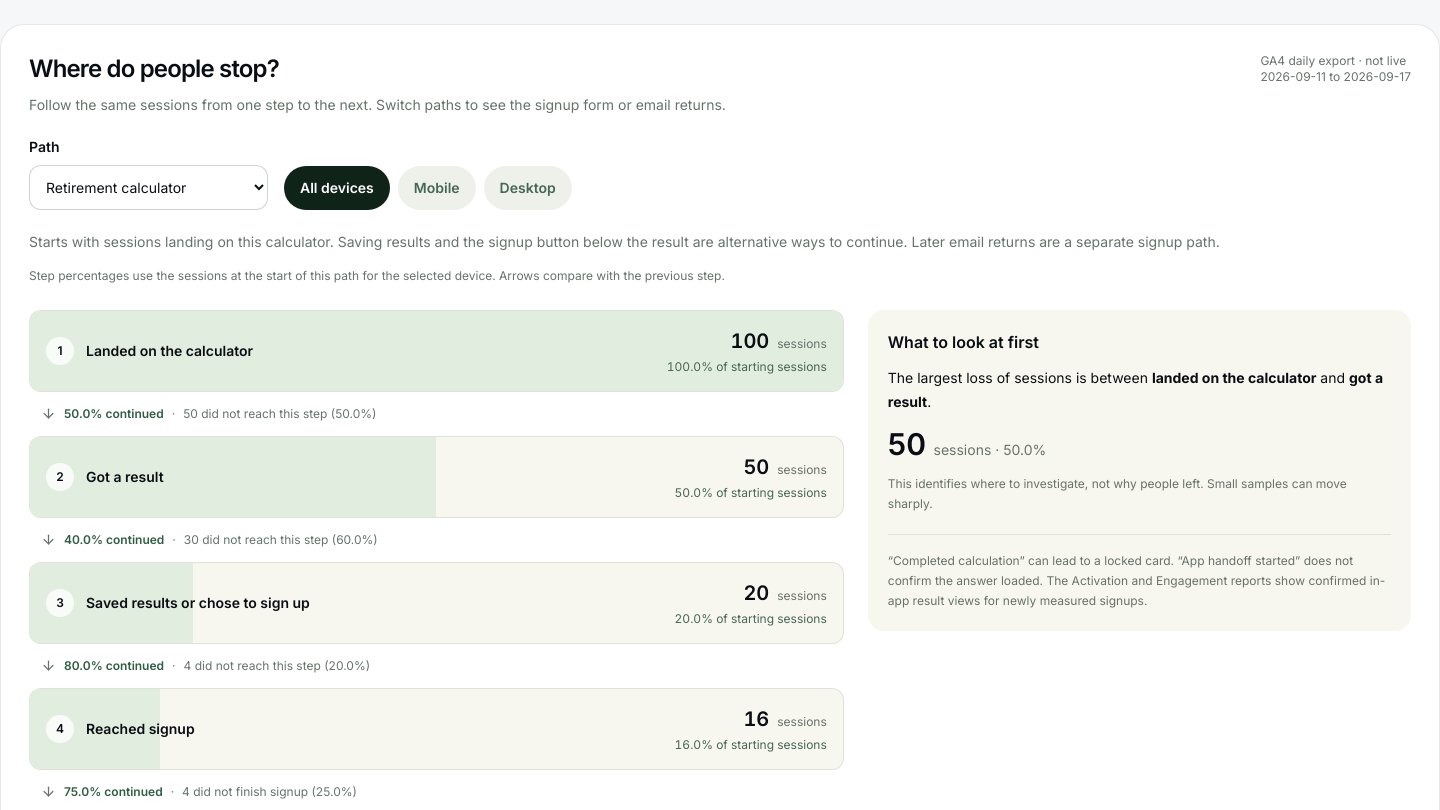
Scenario: simplified admin journeys › shows counts and shares of the selected retirement path on Mobile
Click the button "Mobile": (437, 188) x1=398 y1=166 x2=476 y2=210
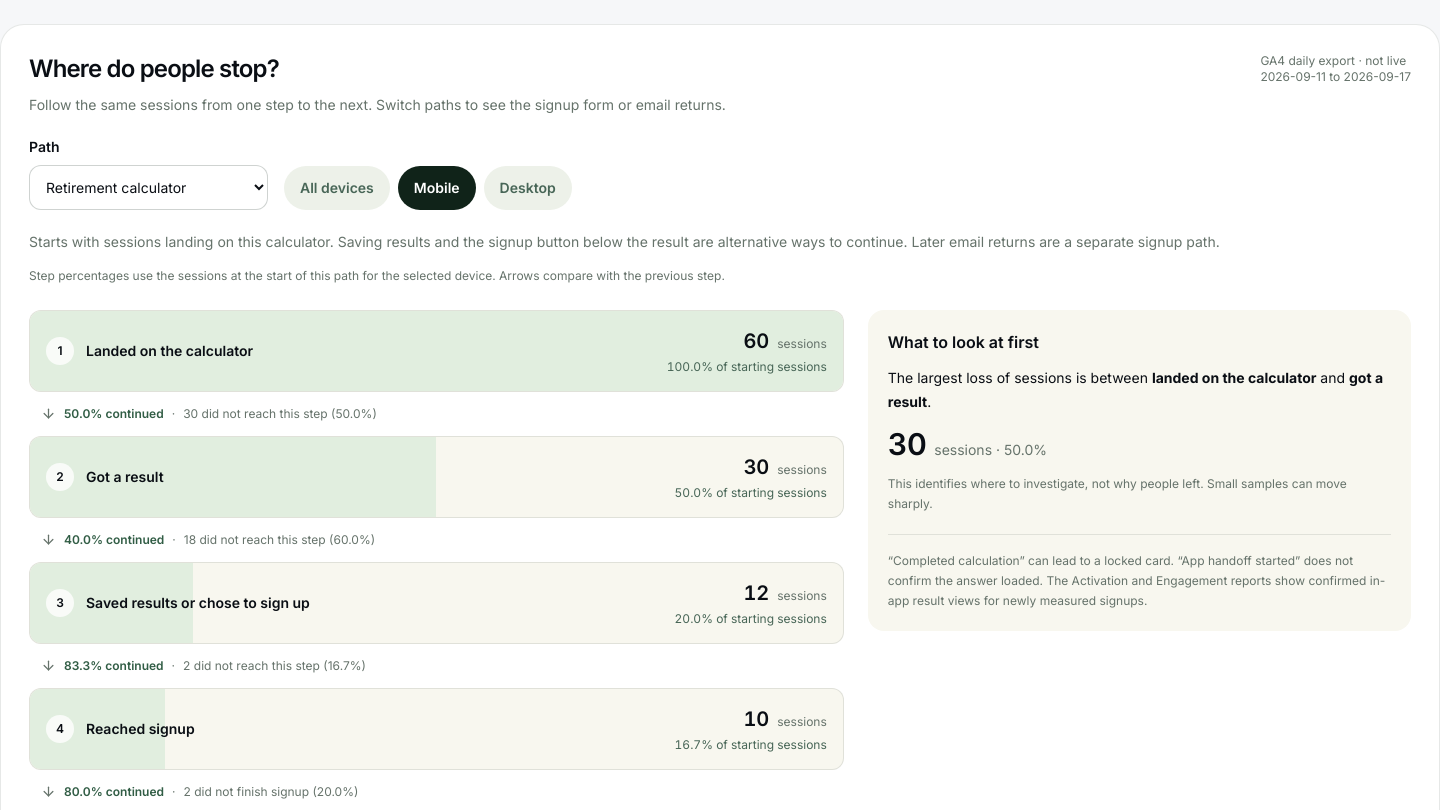
Expected: the text "100.0% of starting sessions" is shown, x1=667 y1=359 x2=827 y2=375
Expected: the text "12" is shown, x1=743 y1=581 x2=769 y2=605
